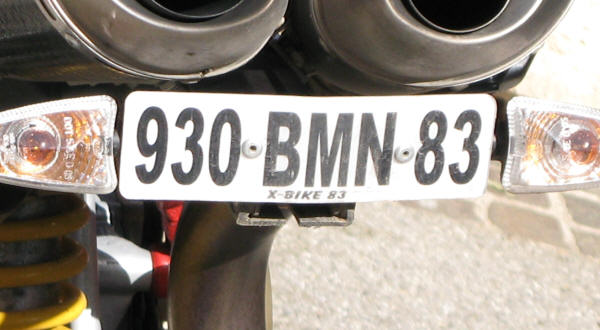license_plate: (119, 91, 498, 202)
